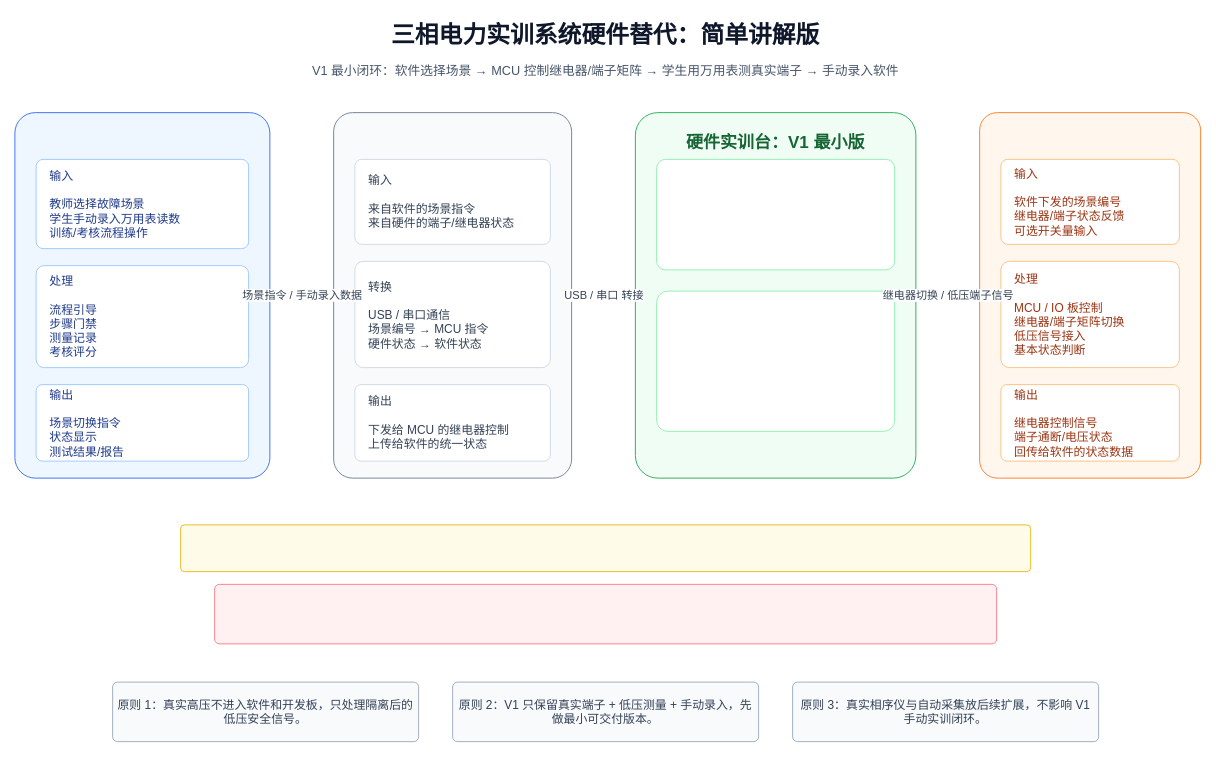
Image size: 1216x757. Some labels were removed from this diagram. Each missing label, with the box of its shape:
上位机软件层: (14, 112, 270, 478)
下位机与低压信号层: (979, 112, 1201, 478)
可选 L1：实体操作 V1 可先不做按钮/指示灯 断路器可先由软件状态或继电器模拟 需要时再增加实体开关: (656, 159, 895, 270)
后续扩展：真实相序仪 需要额外真实三相交流源；MCU / 开发板的 3.3V、5V 或 24V 只能做控制与低压测量，不能直接让真实相序仪工作。: (214, 584, 997, 644)
必做 L2：真实测量端子 端子排 + 继电器/开关矩阵 万用表测通/断、低压电压 学生把读数手动录入软件 这部分构成 V1 交付核心: (656, 290, 895, 431)
状态回传：下位机 → 适配层 → 上位机显示/评分: (180, 524, 1031, 572)
统一适配层: (333, 112, 572, 478)
